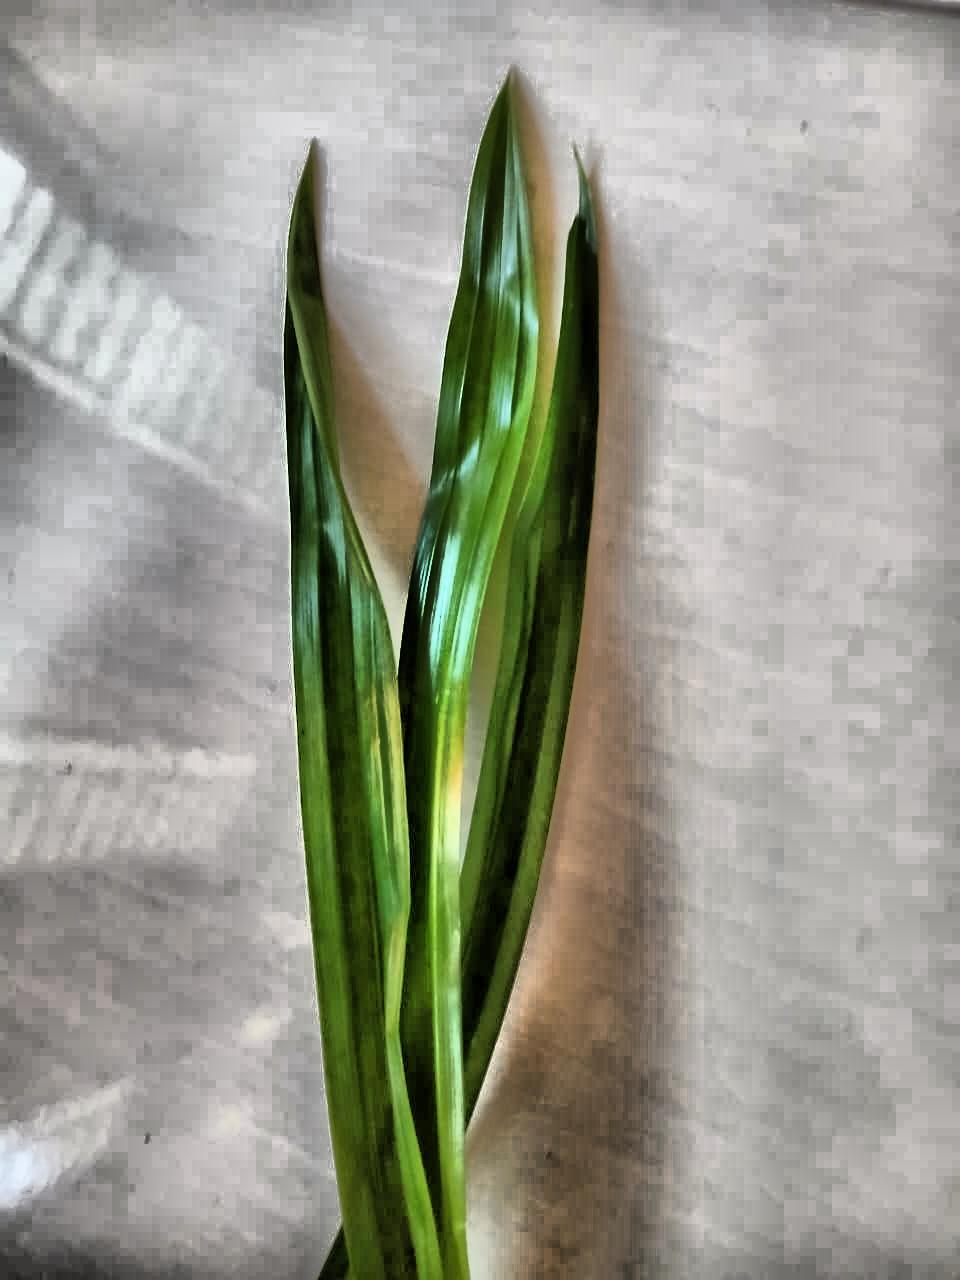daun pandan: (283, 78, 601, 1279)
